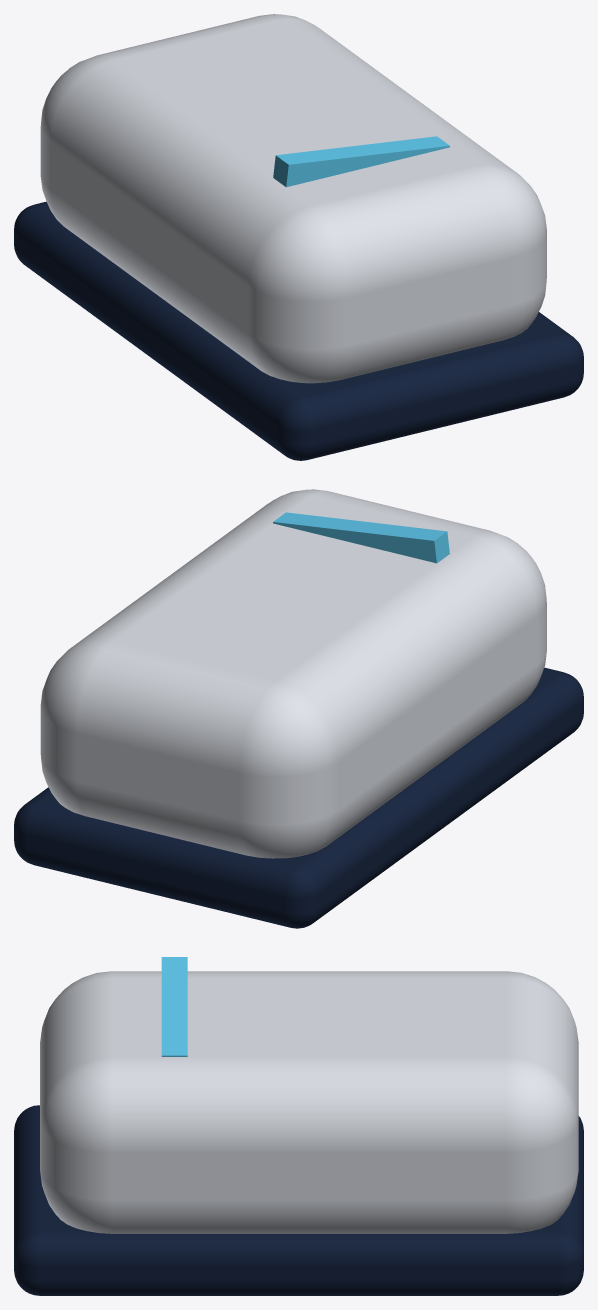
File: pitch-runners.glb
3 renders of one model, top to bottom at view 1: azimuth 30°, elevation 25°; view 2: azimuth 150°, elevation 25°; view 3: azimuth 270°, elevation 25°, orthographic.
Parts seen in each view (by area): view 1: feet.pitch-runners.upper-l, feet.pitch-runners.sole-l, feet.pitch-runners.lace-2-l; view 2: feet.pitch-runners.upper-l, feet.pitch-runners.sole-l, feet.pitch-runners.lace-2-l; view 3: feet.pitch-runners.upper-l, feet.pitch-runners.sole-l, feet.pitch-runners.lace-2-l.
Part boxes in pixels (x1,y1,x2,y2): feet.pitch-runners.upper-l: [40, 14, 546, 383]; feet.pitch-runners.sole-l: [14, 201, 583, 460]; feet.pitch-runners.lace-2-l: [273, 136, 449, 187]; feet.pitch-runners.upper-l: [40, 489, 546, 858]; feet.pitch-runners.sole-l: [14, 667, 583, 928]; feet.pitch-runners.lace-2-l: [273, 512, 449, 563]; feet.pitch-runners.upper-l: [40, 971, 578, 1233]; feet.pitch-runners.sole-l: [14, 1105, 583, 1295]; feet.pitch-runners.lace-2-l: [161, 957, 187, 1056].
Size of the model in its own units: 0.335 by 0.2507 by 0.55.
